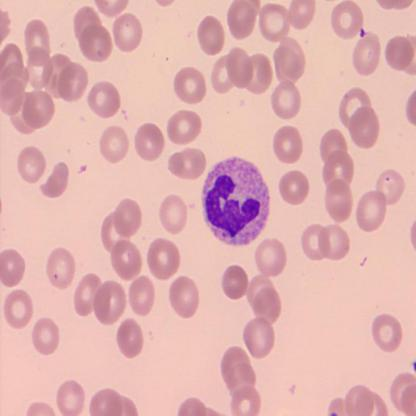Segmented neutrophil: (200, 155, 270, 247)
